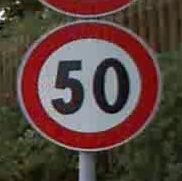limite 50: (13, 18, 163, 151)
